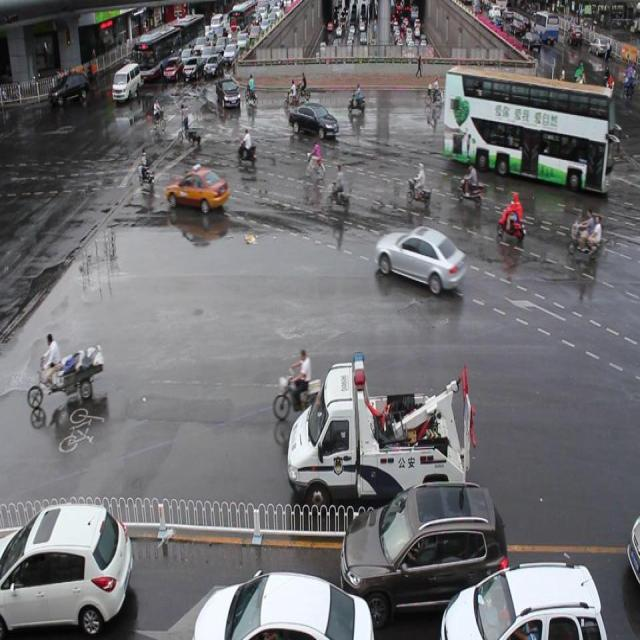bus: (287, 352, 473, 518)
car: (339, 483, 507, 629), (1, 505, 132, 640), (439, 560, 605, 640), (198, 571, 373, 640), (377, 228, 465, 295), (167, 168, 226, 210), (288, 103, 338, 138), (216, 76, 241, 109)
van: (441, 61, 615, 190)
